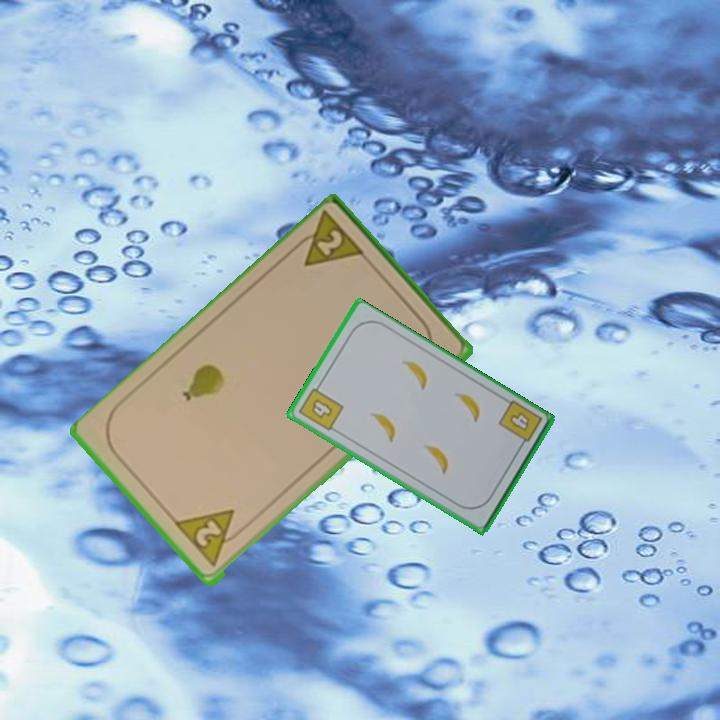2p: (287, 209, 369, 271), (172, 506, 249, 571)
4b: (295, 380, 347, 434), (495, 397, 545, 452)
